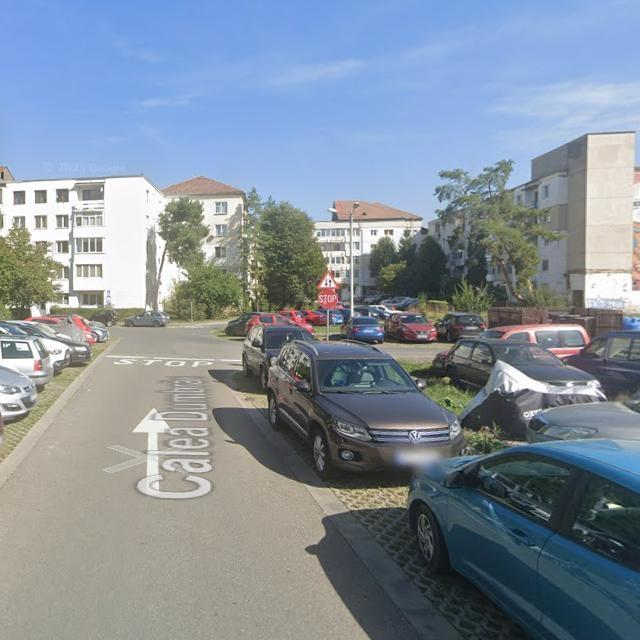prio_stop: (318, 289, 338, 309)
